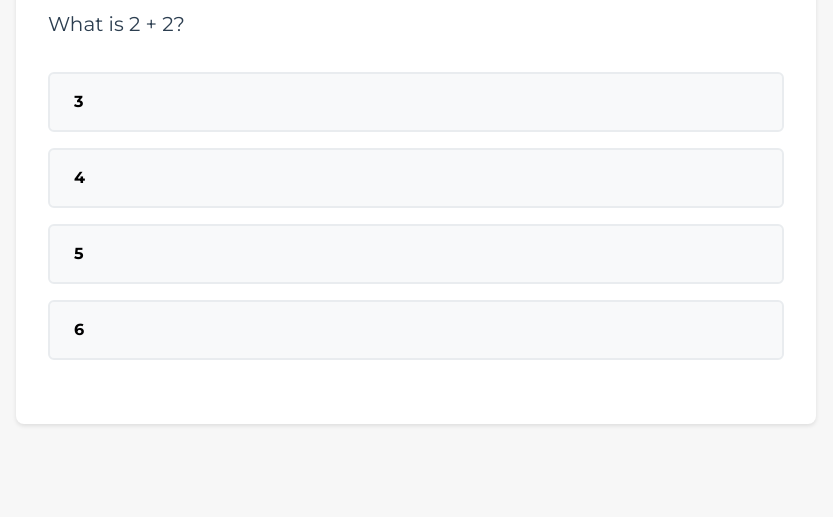
Question › when loaded › shows explanation after answering
What coordinates should you click on to do the following:
click the button "3"
I would click on:
 (79, 102)
Its box is [48,72,784,132].
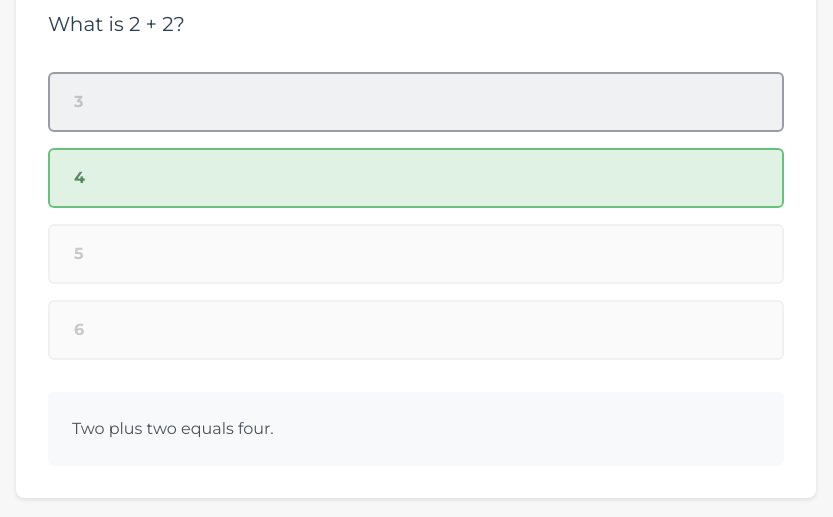
Result: the text "Two plus two equals four." is shown at [72,419,274,438]
